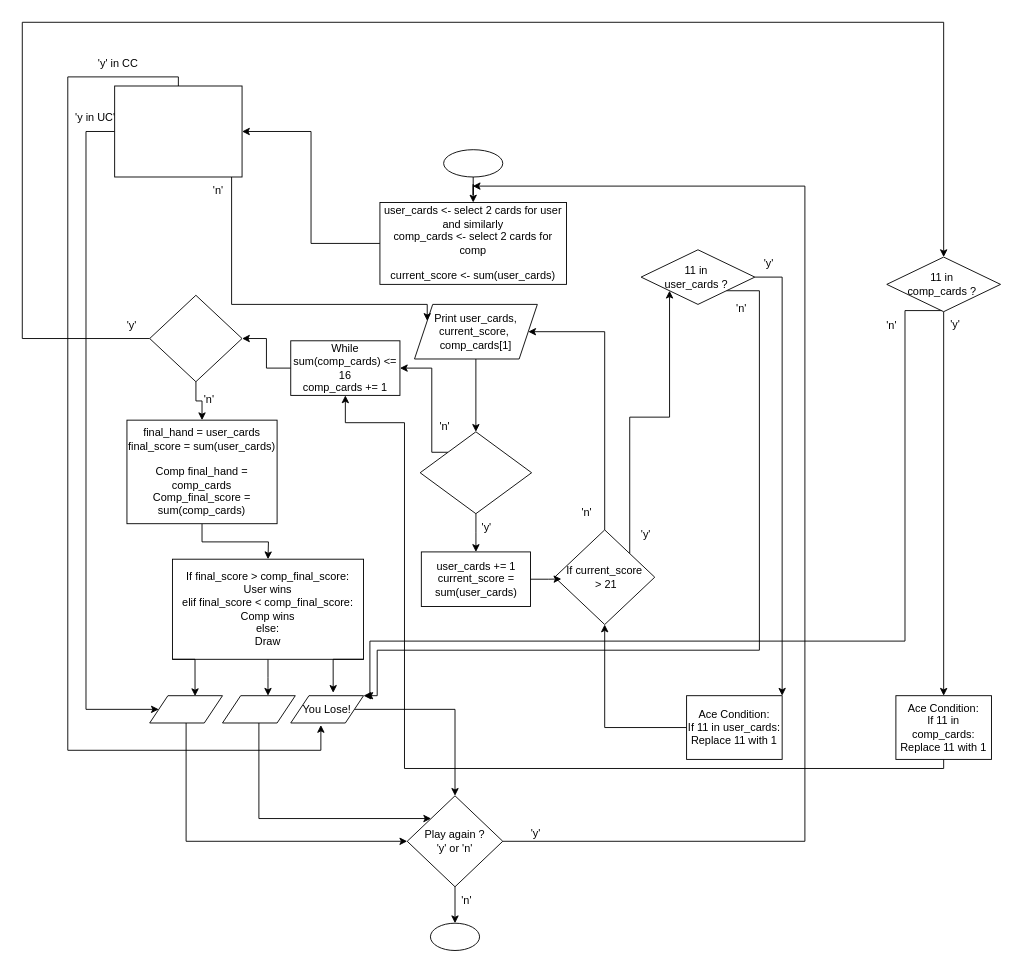
The diagram is 1016 pixels wide and 966 high, and some of its shapes have lost their labels. Here are the shapes that lost their labels. From the top down, the box of each, then its label:
(114, 85, 242, 177): Blackjack Condition Check: If [10, 11] in user_cards or [10, 11] in comp_cards
(443, 149, 503, 177): Start
(149, 294, 242, 382): If comp_score > 21
(419, 431, 532, 514): 'y' to get another card, 'n' to pass
(149, 695, 222, 723): You Win!
(222, 695, 295, 723): Draw
(430, 922, 480, 950): End
